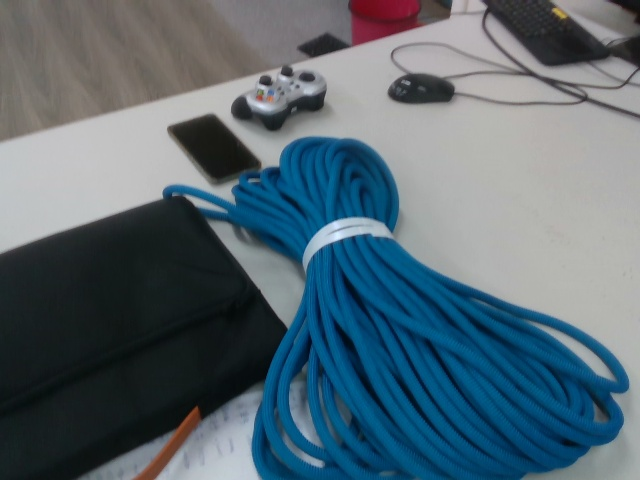rope: (156, 131, 637, 480)
